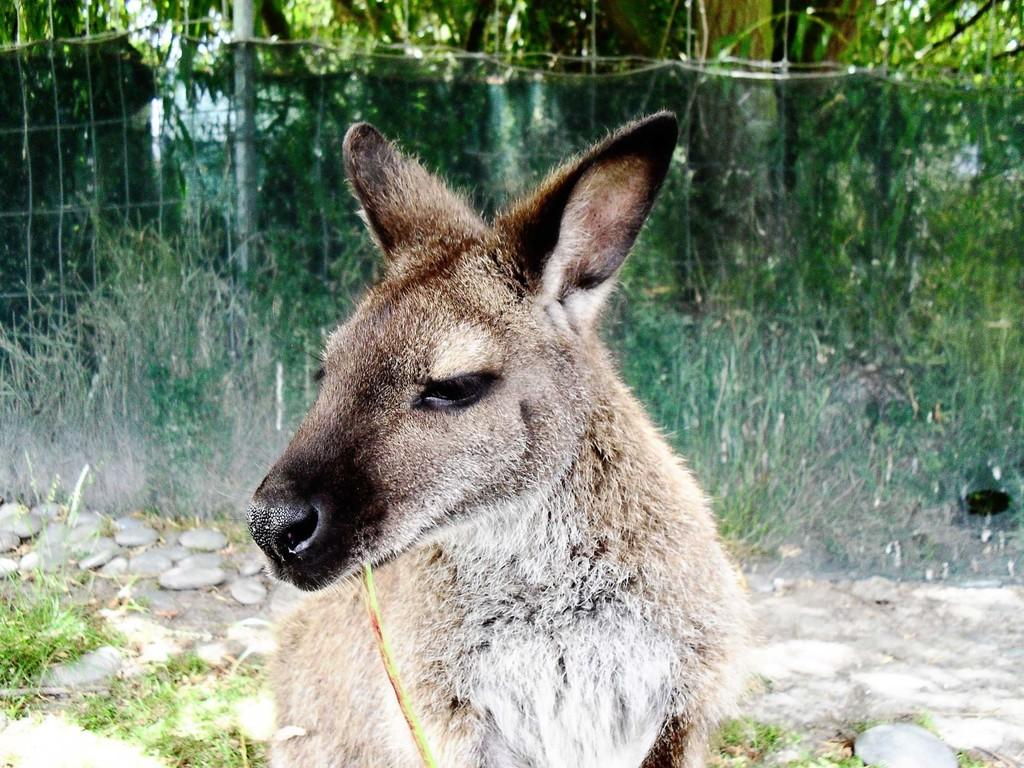kangaroo: (245, 109, 764, 768)
